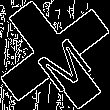M_NW: (21, 21, 89, 89)
